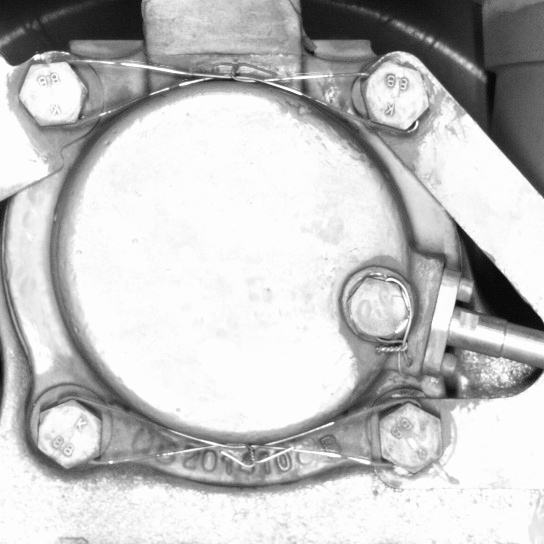IronWire: (26, 391, 453, 481), (9, 50, 436, 138)
Screw: (9, 51, 97, 138), (350, 54, 436, 137), (370, 394, 450, 482), (29, 392, 109, 476), (335, 269, 418, 348)
